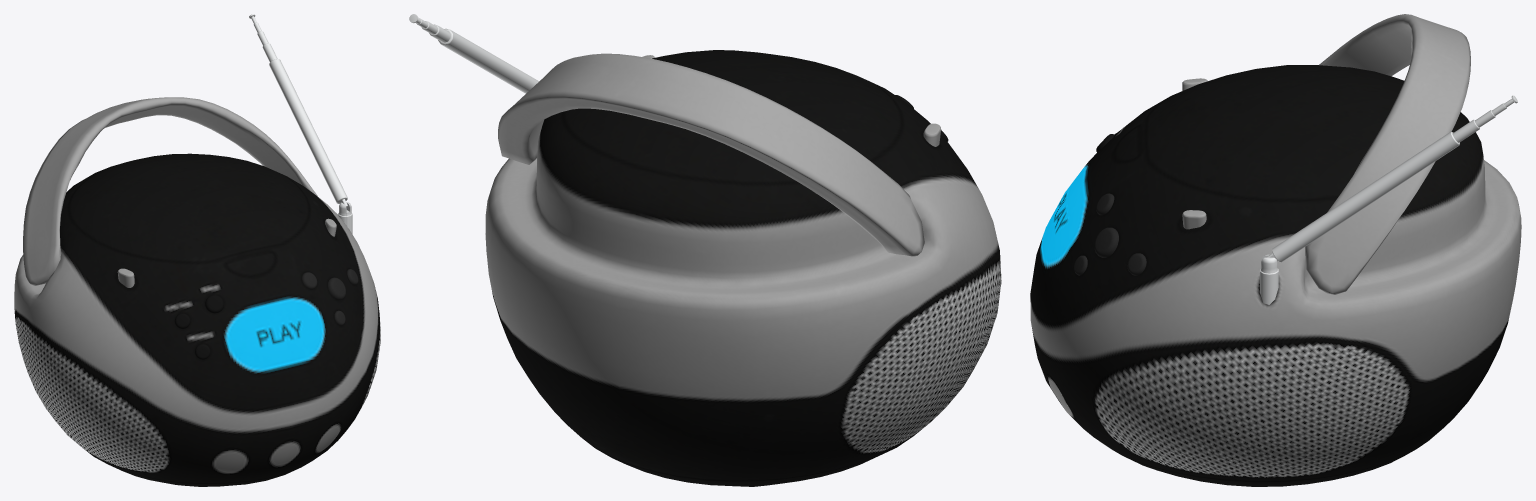
Rendered from BoomBox.glb.
3 renders of one model, left to right at view 1: azimuth 30°, elevation 25°; view 2: azimuth 150°, elevation 25°; view 3: azimuth 270°, elevation 25°, orthographic. The views are drawn at different scales.
Visible parts, largest first — view 1: BoomBox; view 2: BoomBox; view 3: BoomBox.
Part boxes in pixels (x1,y1,x2,y2): BoomBox: (14, 14, 380, 486); BoomBox: (409, 14, 1001, 486); BoomBox: (1030, 14, 1521, 486).
Size of the model in its own units: 0.0198 by 0.0195 by 0.0202.
1 material, 1 textured.
